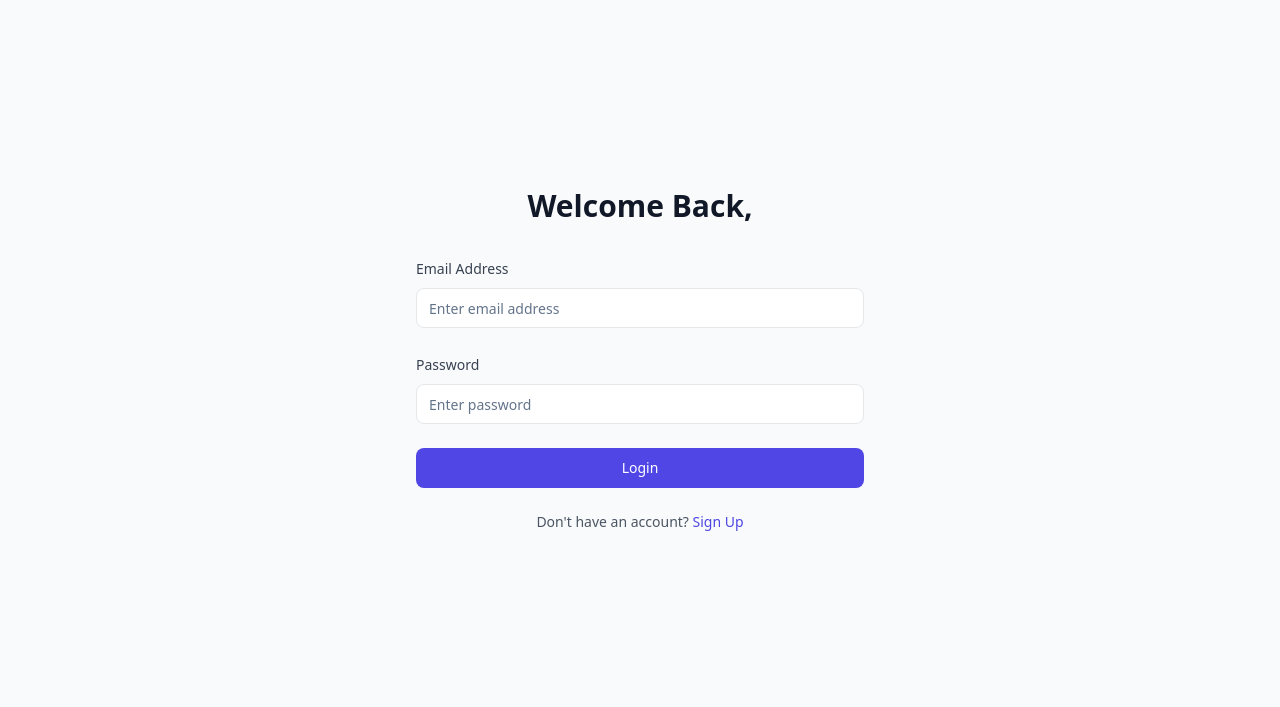
Test: Bookmark Functionality › Authenticated User › should handle bookmark API errors gracefully
In the field labelled "Email Address": (640, 308) [416,288,864,328], type "test@example.com"
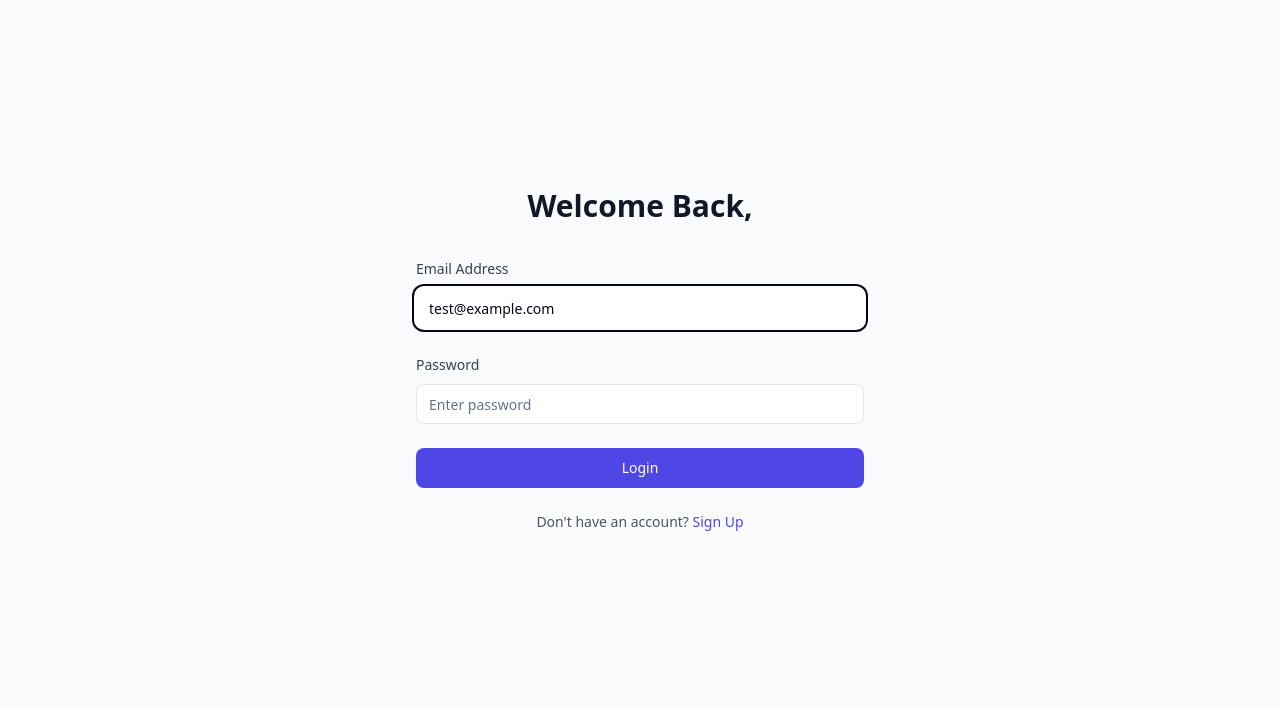
In the password field labelled "Password": (640, 404) [416,384,864,424], type "Test123456"
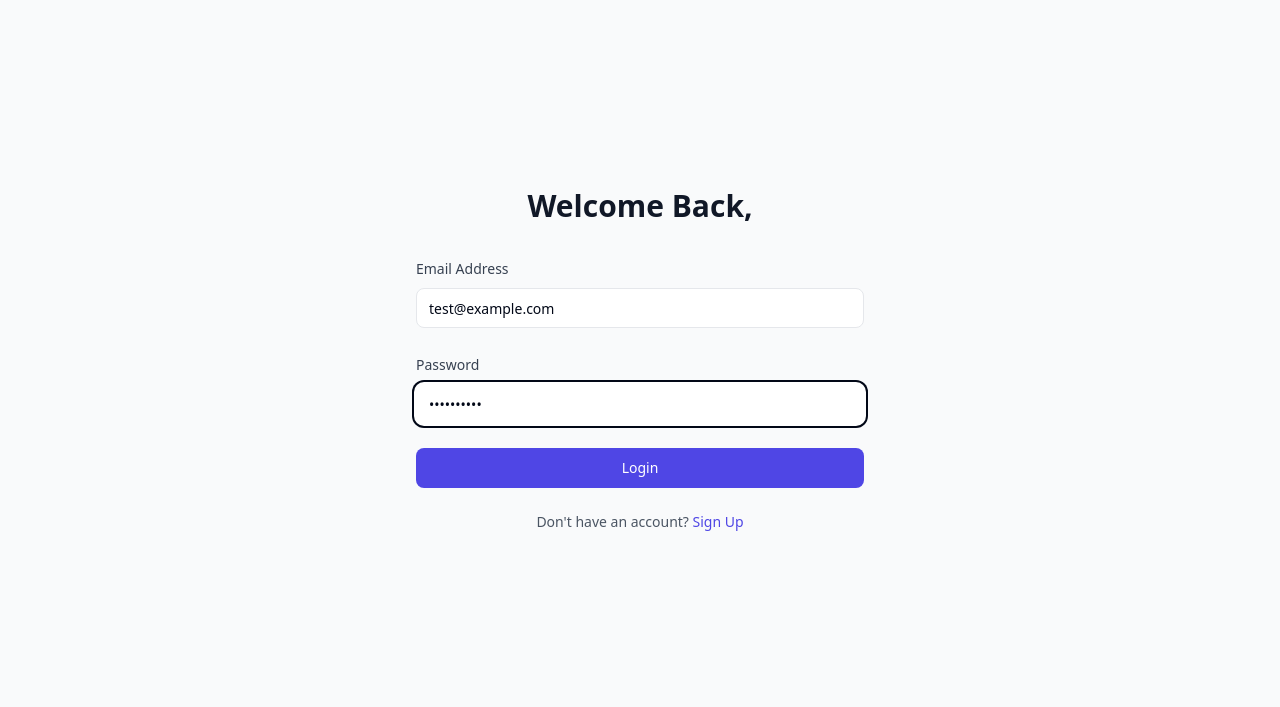
Click the submit button: click(640, 468) [416,448,864,488]
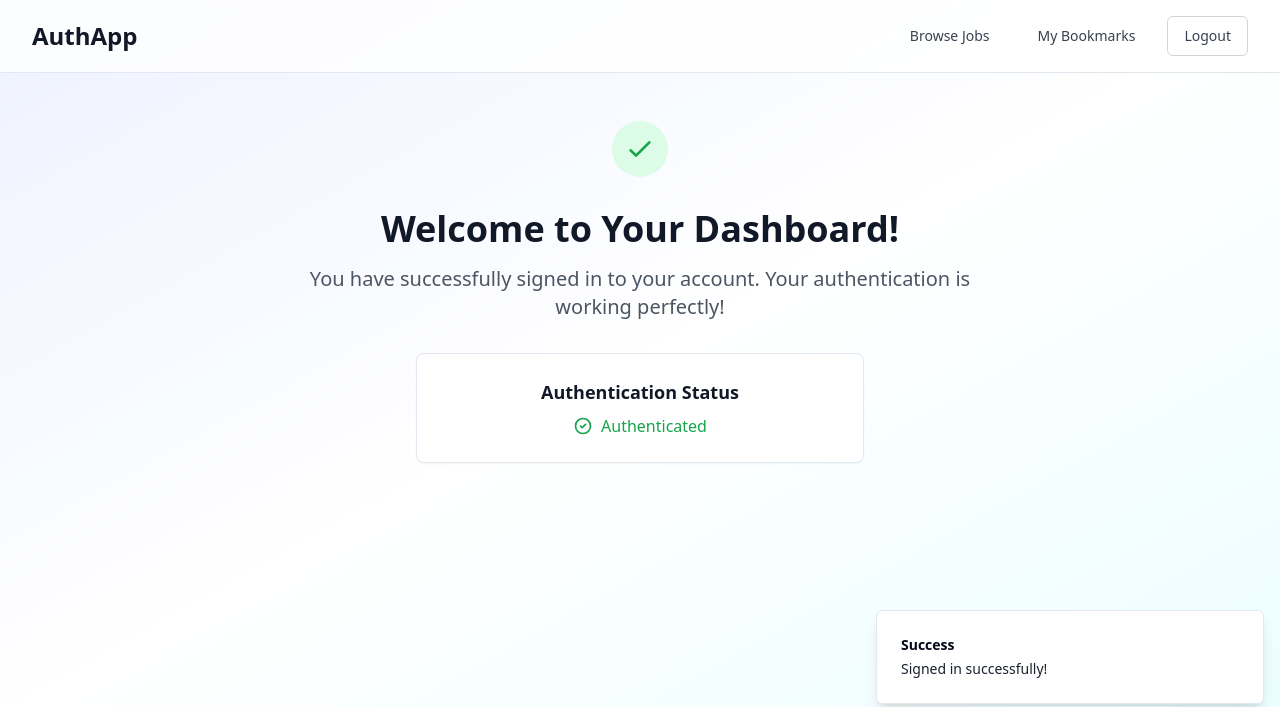
Open "/jobs"
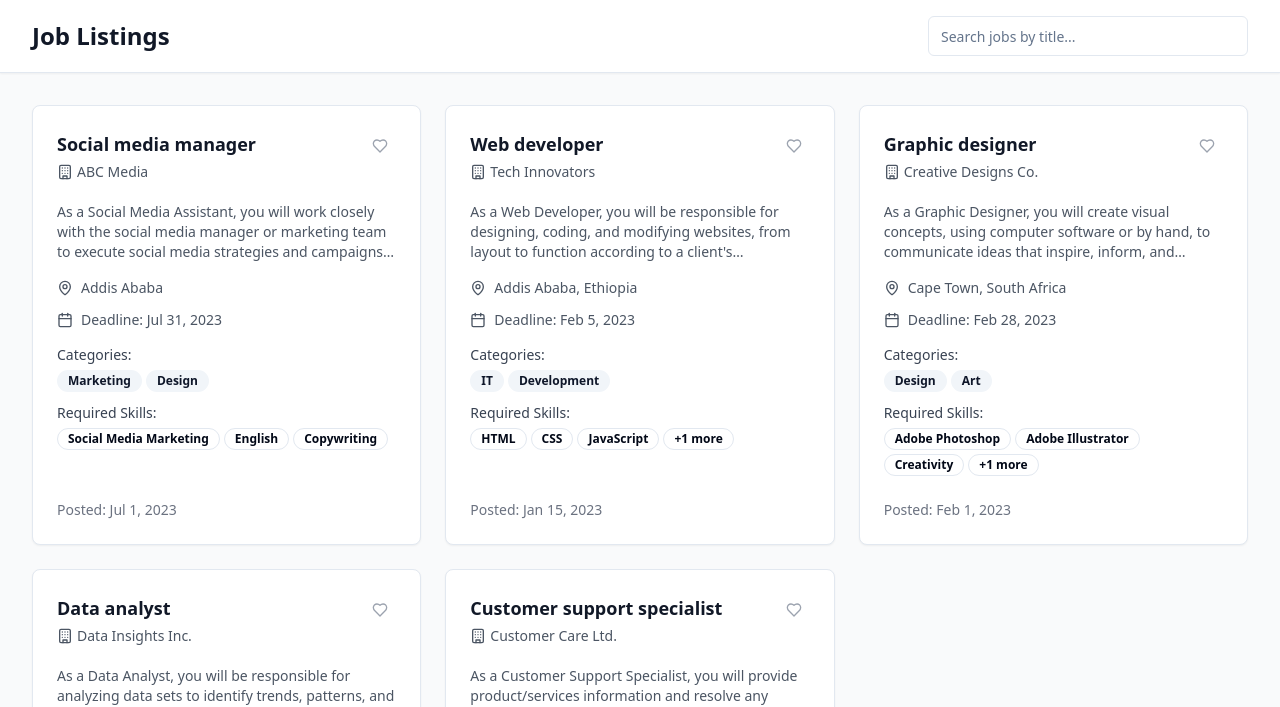
Click the button with test id "bookmark-button": click(380, 146) [364,130,396,162]
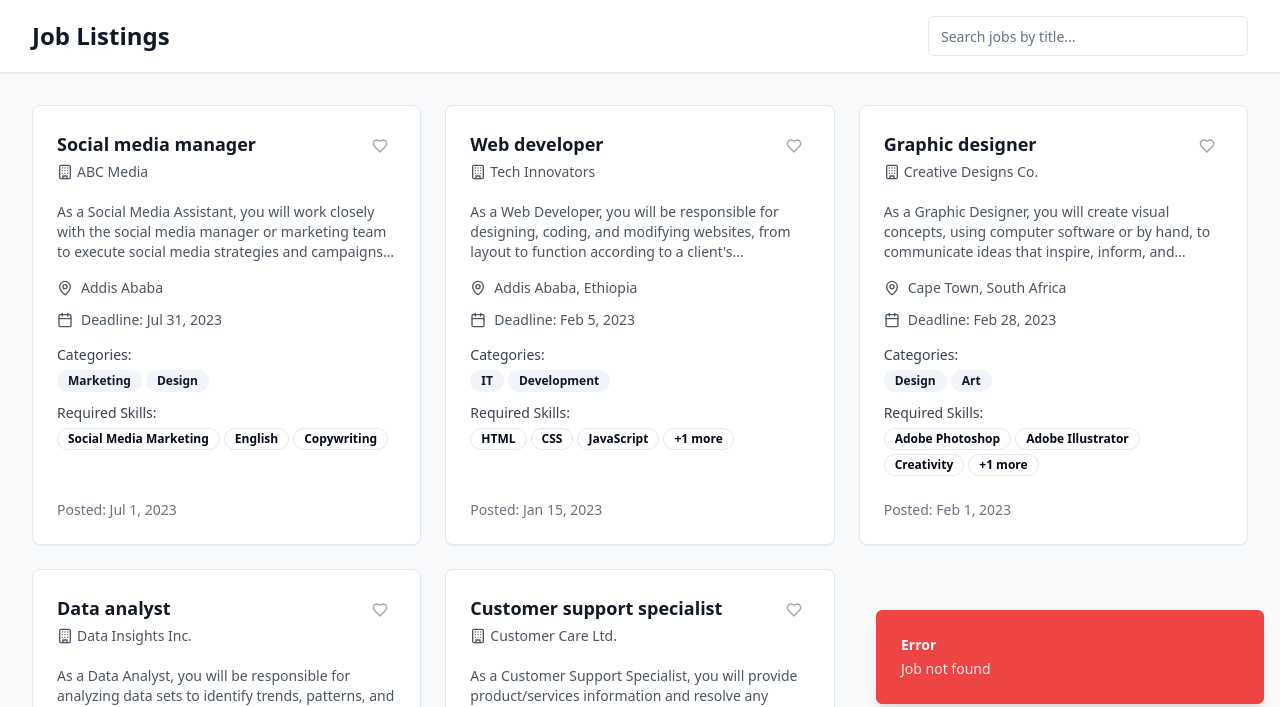
Expected: the text "Job not found" is shown, [901,659,991,679]
